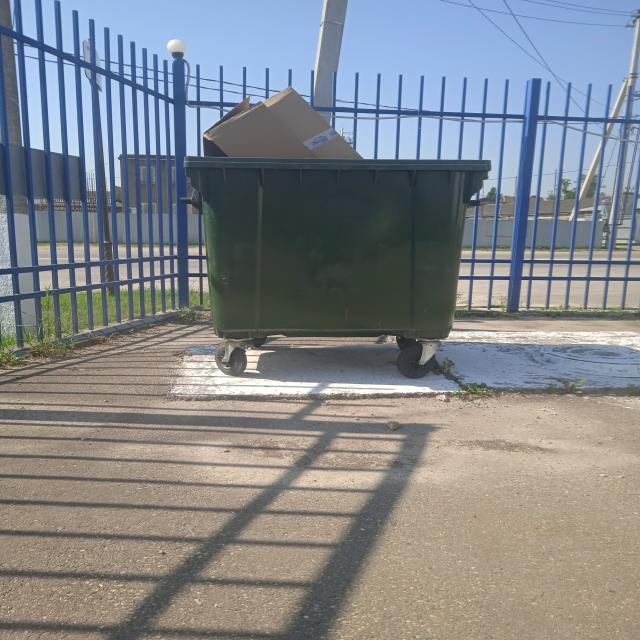bin: (182, 152, 498, 374)
trash: (200, 78, 367, 158)
